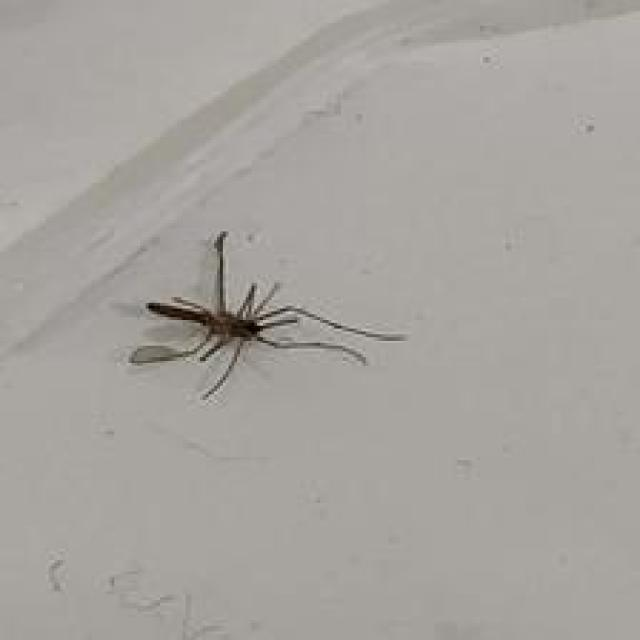Culex: (127, 230, 407, 401)
